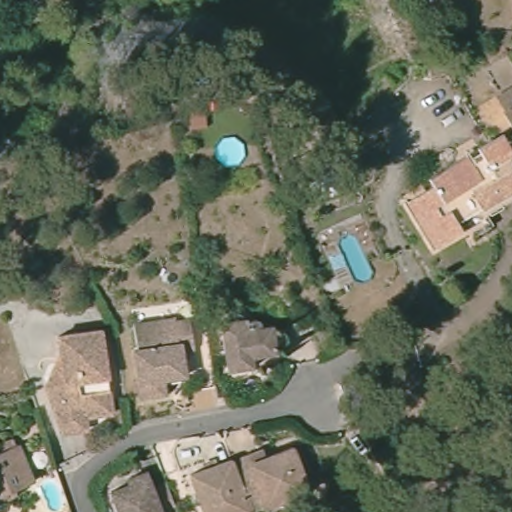pool: (327, 224, 379, 286), (212, 131, 250, 171), (34, 469, 66, 508)
